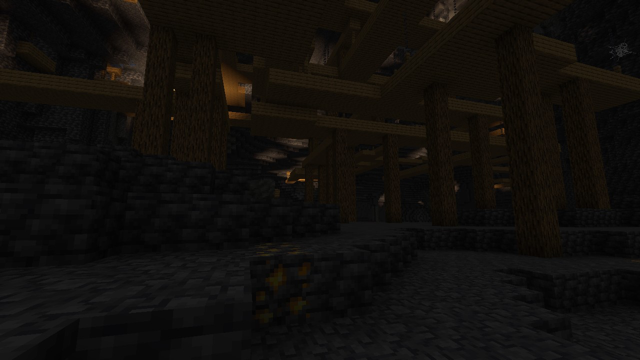gold: (247, 236, 319, 335)
